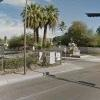Tree: (13, 1, 78, 40)
